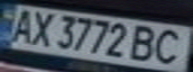2: (106, 19, 133, 60)
3: (51, 12, 78, 51)
7: (69, 15, 93, 52), (90, 17, 112, 56)
A: (3, 7, 39, 44)
B: (127, 22, 163, 63)
C: (148, 27, 190, 66)
X: (24, 8, 57, 47)
